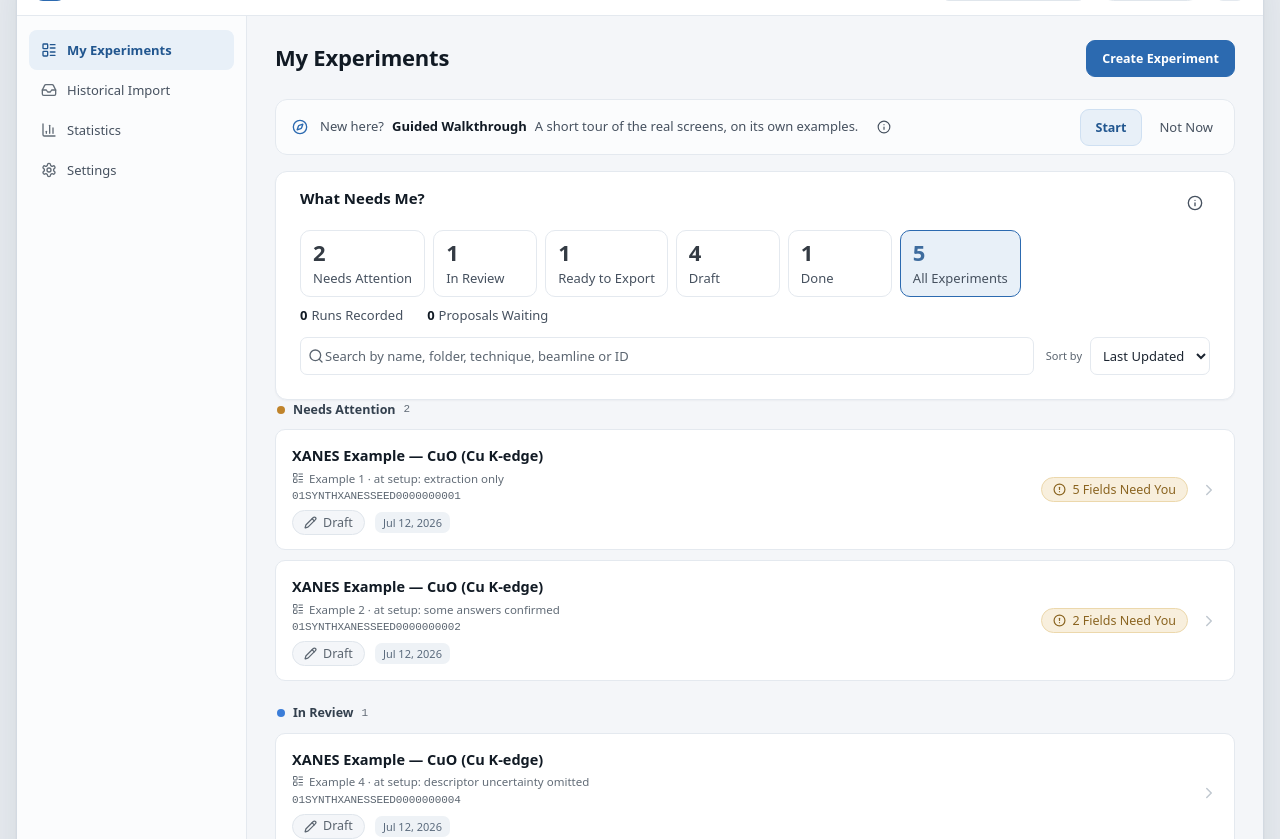
R0 · stepping through the walkthrough › a step on another surface NAVIGATES there and anchors to that surface s control
Check: the heading "Guided Walkthrough" is shown, box top-left (392, 118), bottom-right (527, 136)
Click the button with aria-label "Start Guided Walkthrough": (1111, 127) top-left (1080, 109), bottom-right (1142, 146)
(page scrolled)
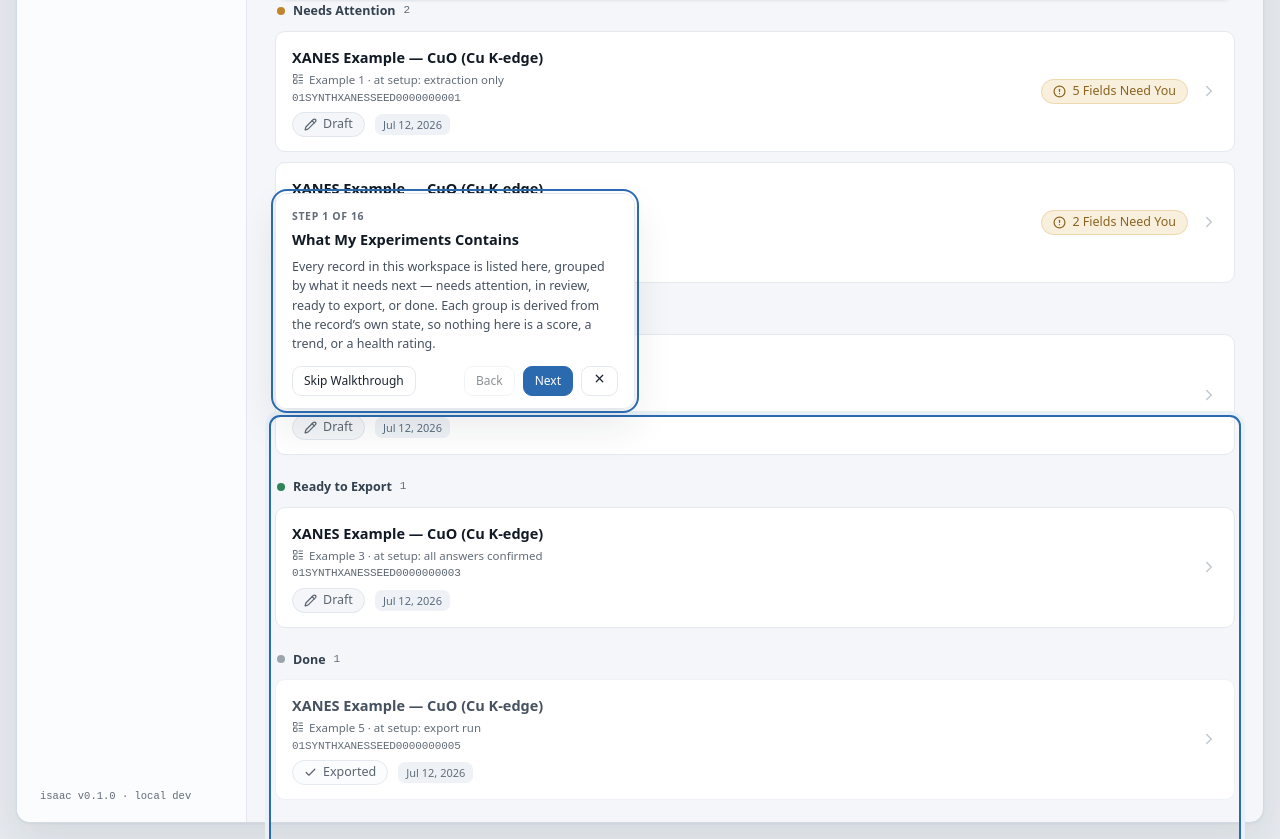
Check: the dialog with class "tutorial-mark" is shown, box top-left (275, 193), bottom-right (635, 409)
Click the button "Next": (548, 381) top-left (523, 366), bottom-right (573, 396)
(page scrolled)
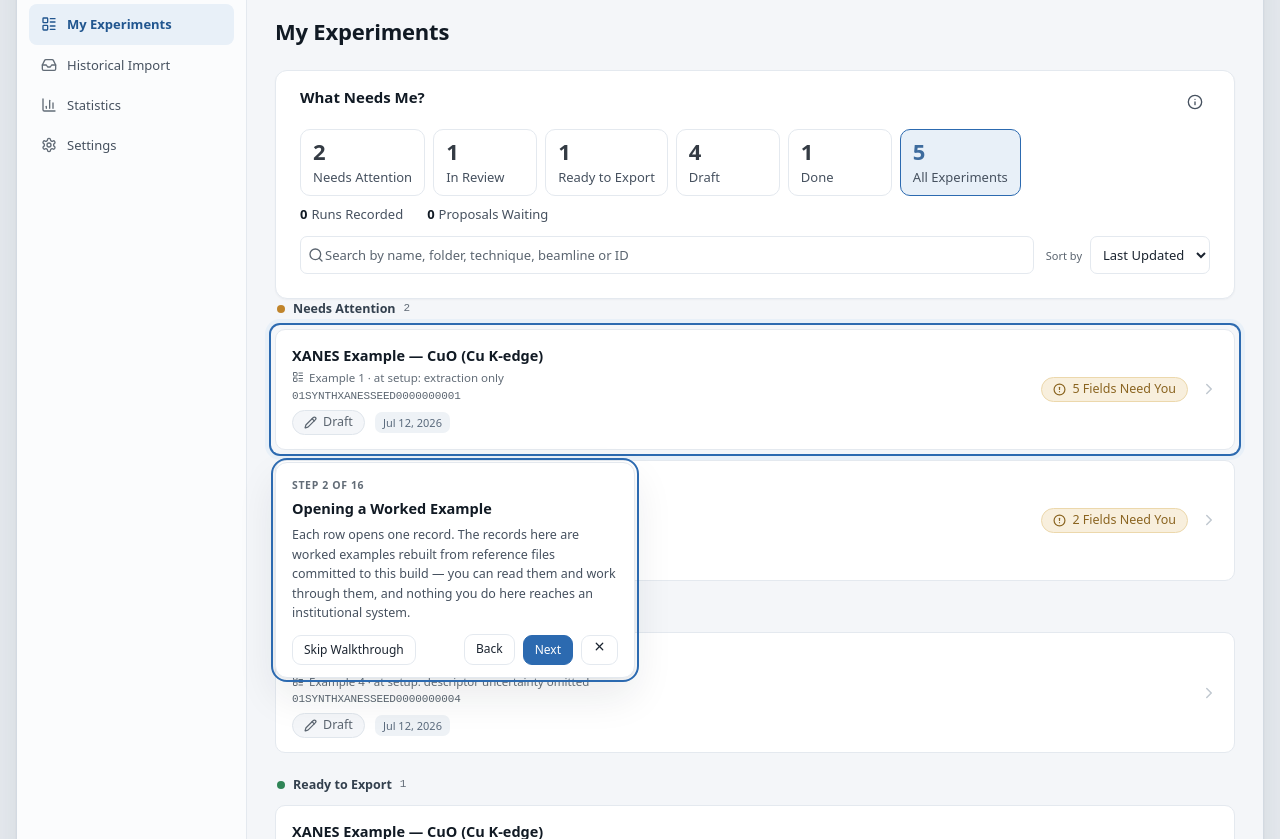
Check: the dialog with class "tutorial-mark" does not have attribute data-tutorial-step="experiments-overview", box top-left (275, 462), bottom-right (635, 678)
Check: the dialog with class "tutorial-mark" has attribute data-tutorial-step="open-example", box top-left (275, 462), bottom-right (635, 678)
Click the button "Next": (548, 650) top-left (523, 634), bottom-right (573, 665)
(page scrolled)
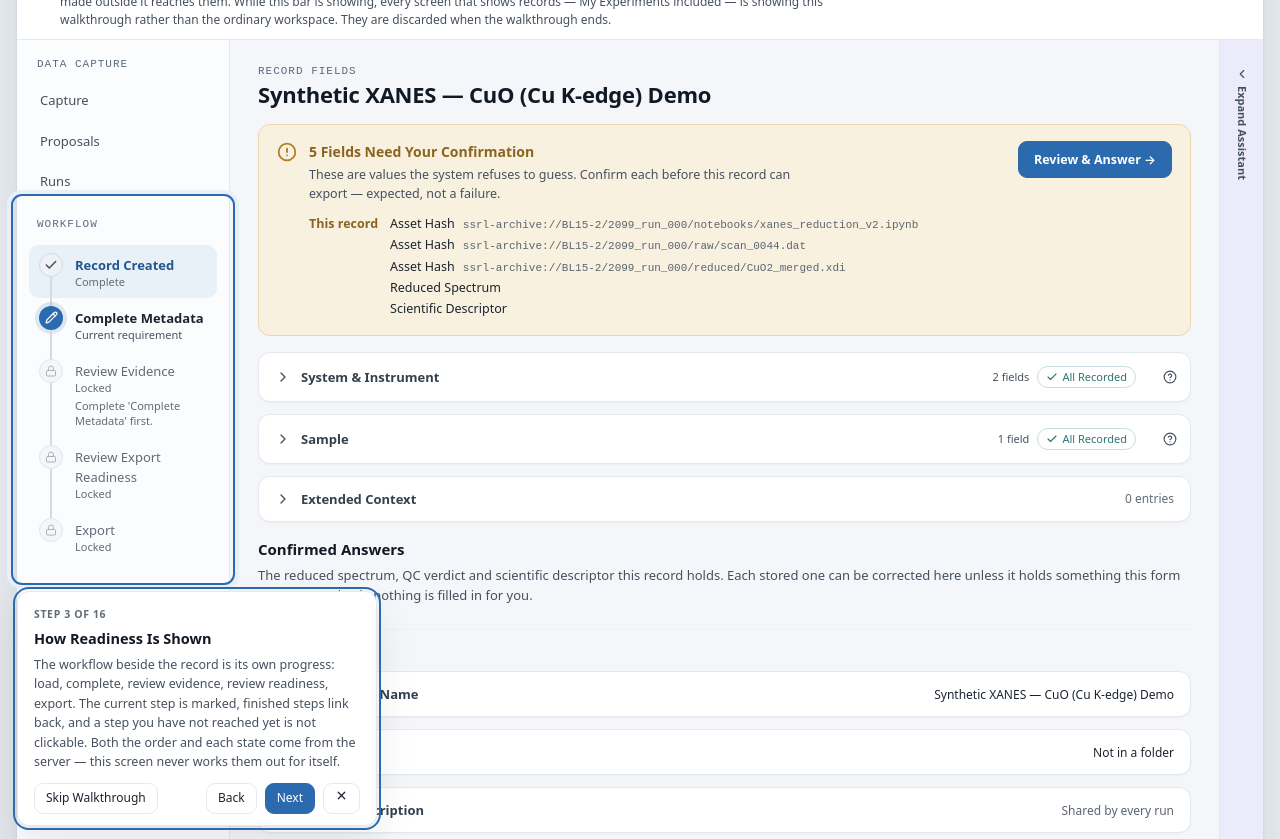
Check: the text "5 Fields Need Your Confirmation" is shown, box top-left (309, 142), bottom-right (534, 161)
